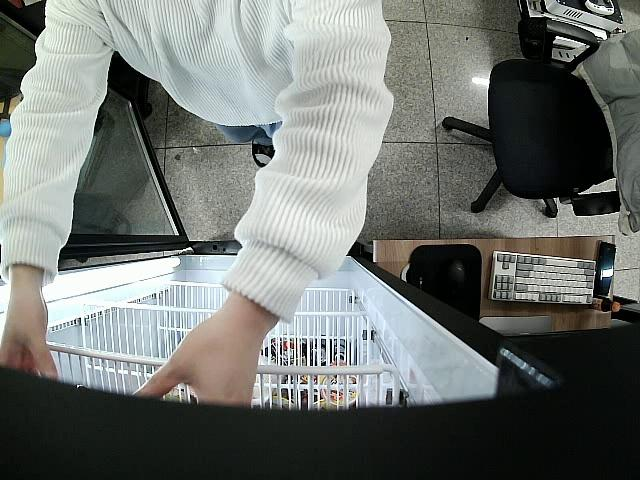00_hand: (131, 321, 255, 410), (0, 294, 60, 381)
